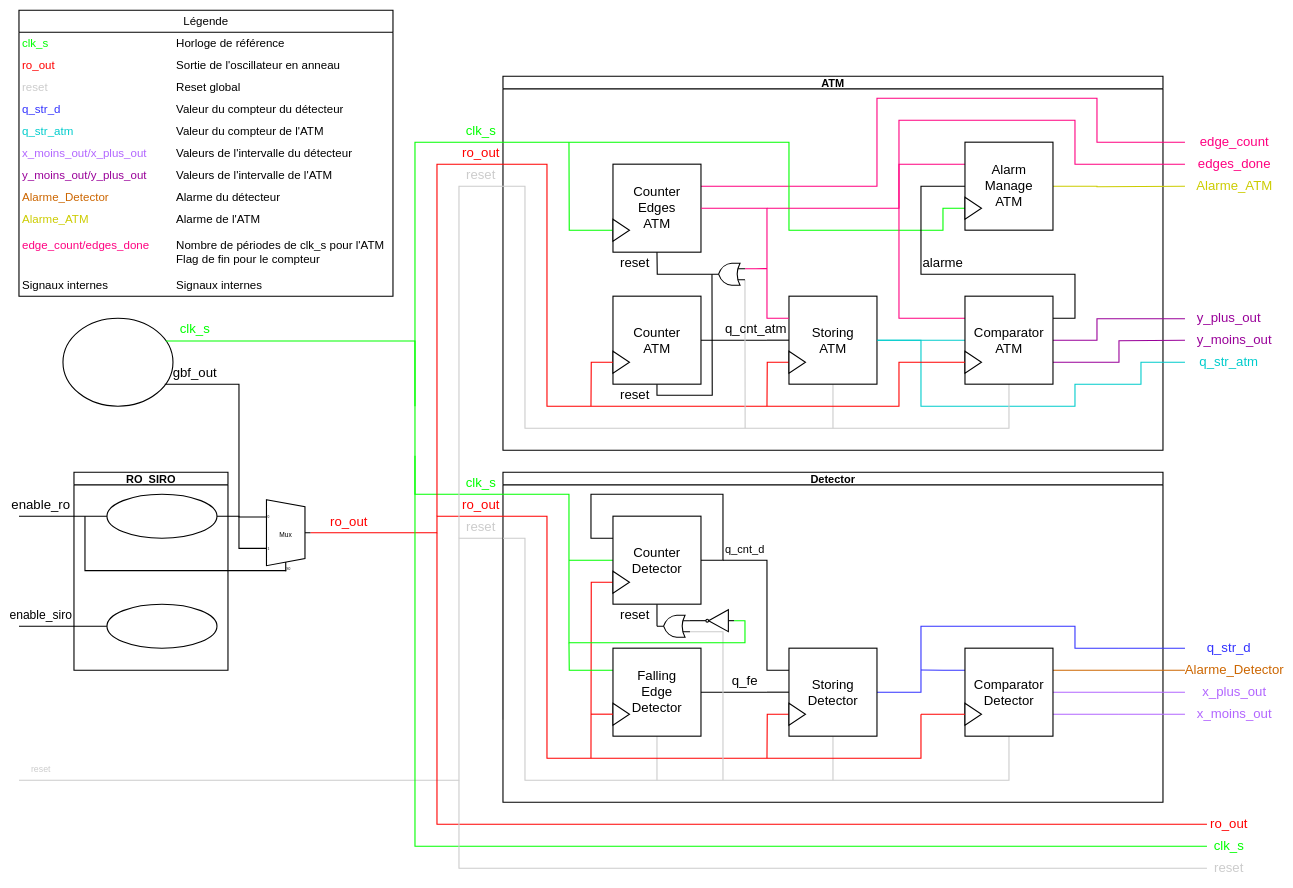
The diagram is 1293 pixels wide and 888 high, and some of its shapes have lost their labels. Each missing label, with the centre of its shape:
GBF: point 117,361
RO: point 161,515
SIRO: point 161,625
